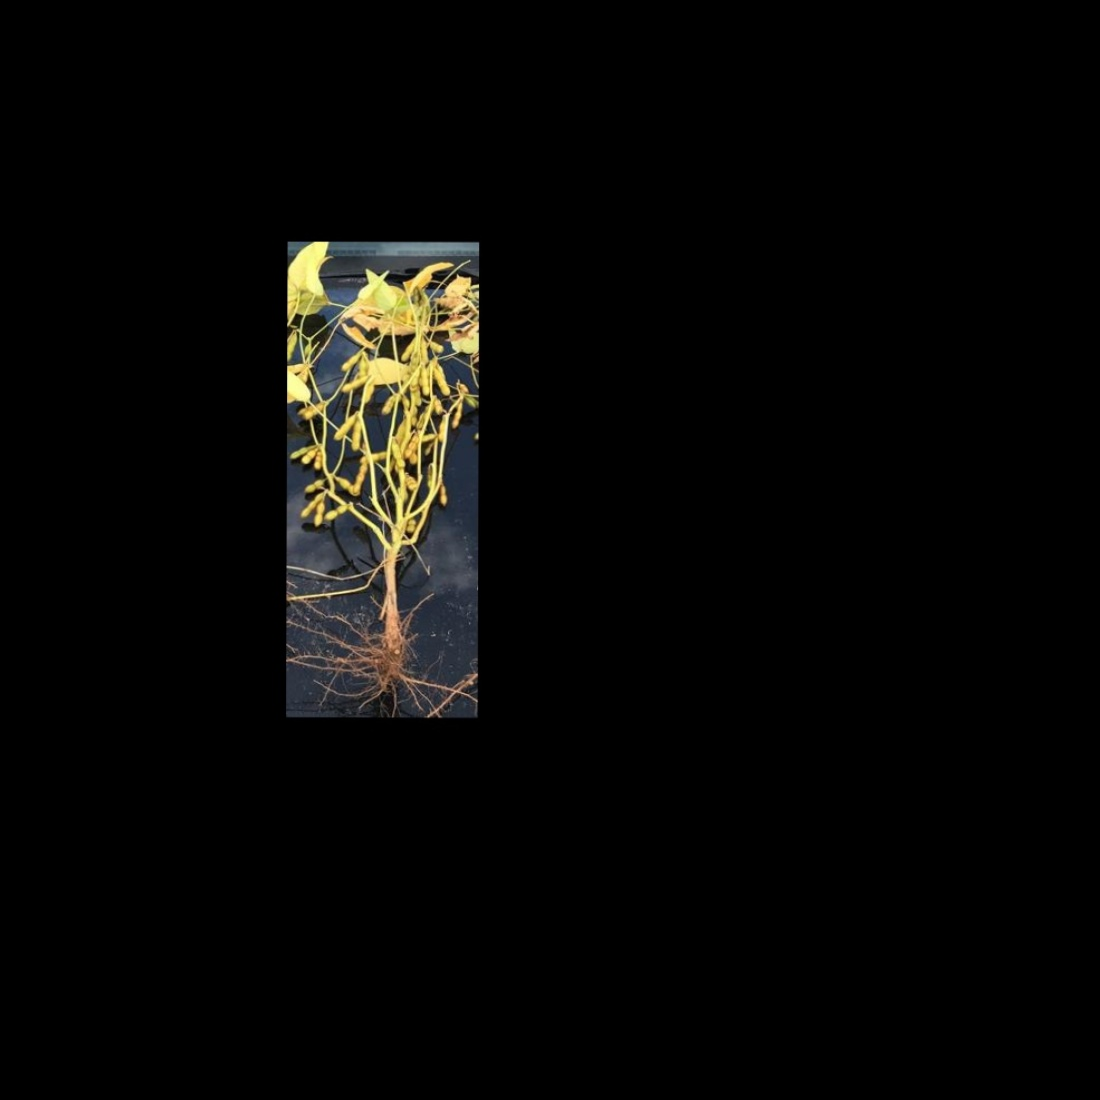pod: (351, 459, 370, 496), (432, 370, 452, 400), (357, 448, 390, 465), (350, 419, 365, 453), (324, 503, 353, 521), (339, 351, 362, 371), (313, 499, 328, 527), (361, 379, 376, 407), (380, 394, 397, 416), (302, 477, 325, 493), (438, 482, 449, 510), (428, 339, 445, 355), (314, 448, 325, 471)
soy: (295, 251, 475, 696)
